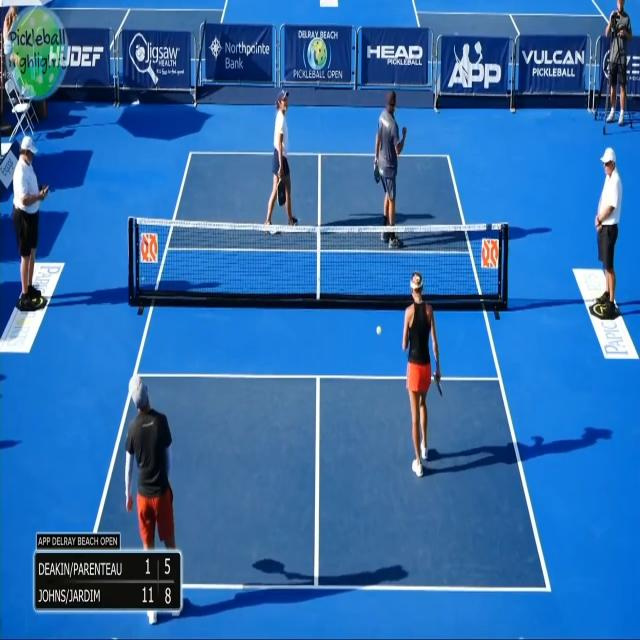ball: (373, 320, 389, 347)
